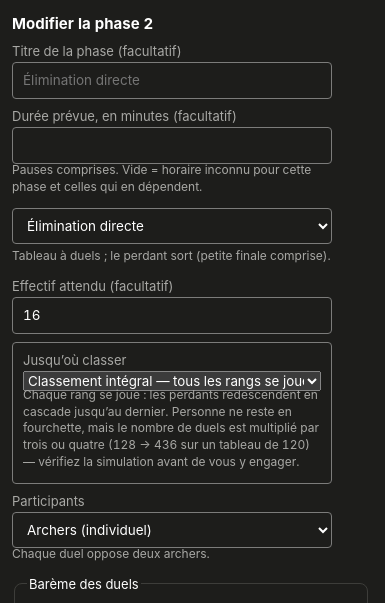
profondeur sur les phases d’un tournoi › n’offre pas le réglage sur un type sans tableau
Select "Poules" in the dropdown named "Type de la phase" at (172, 226), box [12, 208, 332, 244]
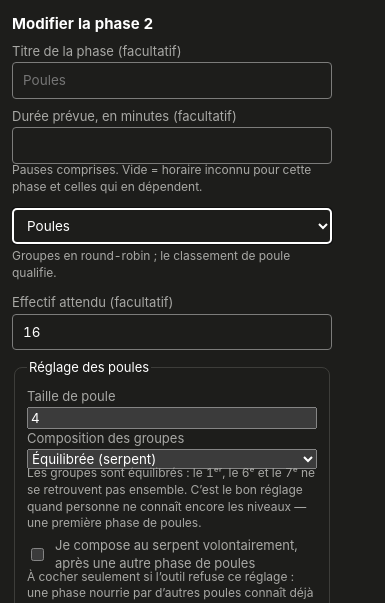
Expected: the label labelled "classer" is gone
